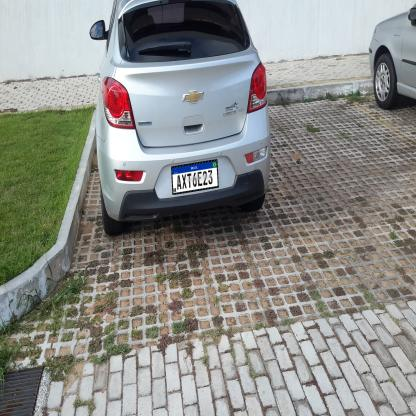PlacaM: (171, 159, 219, 195)
